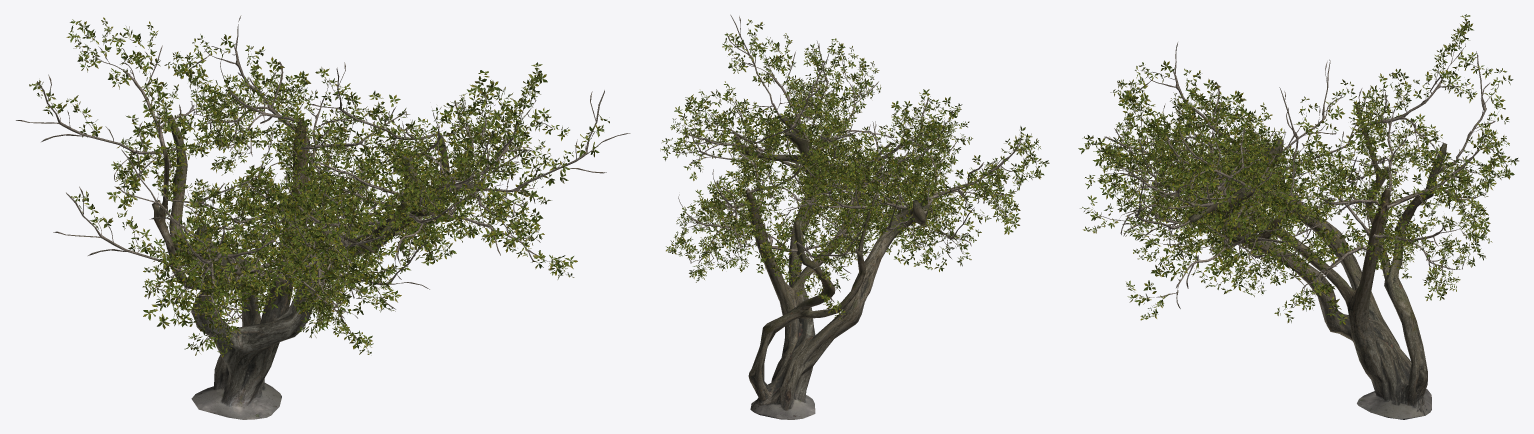
The model's file is island_tree_02_1k.gltf.
The picture shows the model from 3 angles, left to right: view 1: azimuth 30°, elevation 25°; view 2: azimuth 150°, elevation 25°; view 3: azimuth 270°, elevation 25°; orthographic projection. The views are drawn at different scales.
Visible parts, largest first — view 1: island_tree_02_LOD0; view 2: island_tree_02_LOD0; view 3: island_tree_02_LOD0.
Part boxes in pixels (box(x1,y1,x2,y2)): island_tree_02_LOD0: box(16, 15, 630, 419); island_tree_02_LOD0: box(660, 14, 1049, 419); island_tree_02_LOD0: box(1078, 14, 1518, 419).
Bounding box in the file's own units: 4.21 × 3.41 × 4.07.
3 materials, 3 textured.
